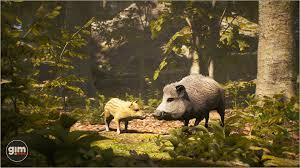wildboar: (150, 71, 229, 137), (98, 96, 148, 135)
